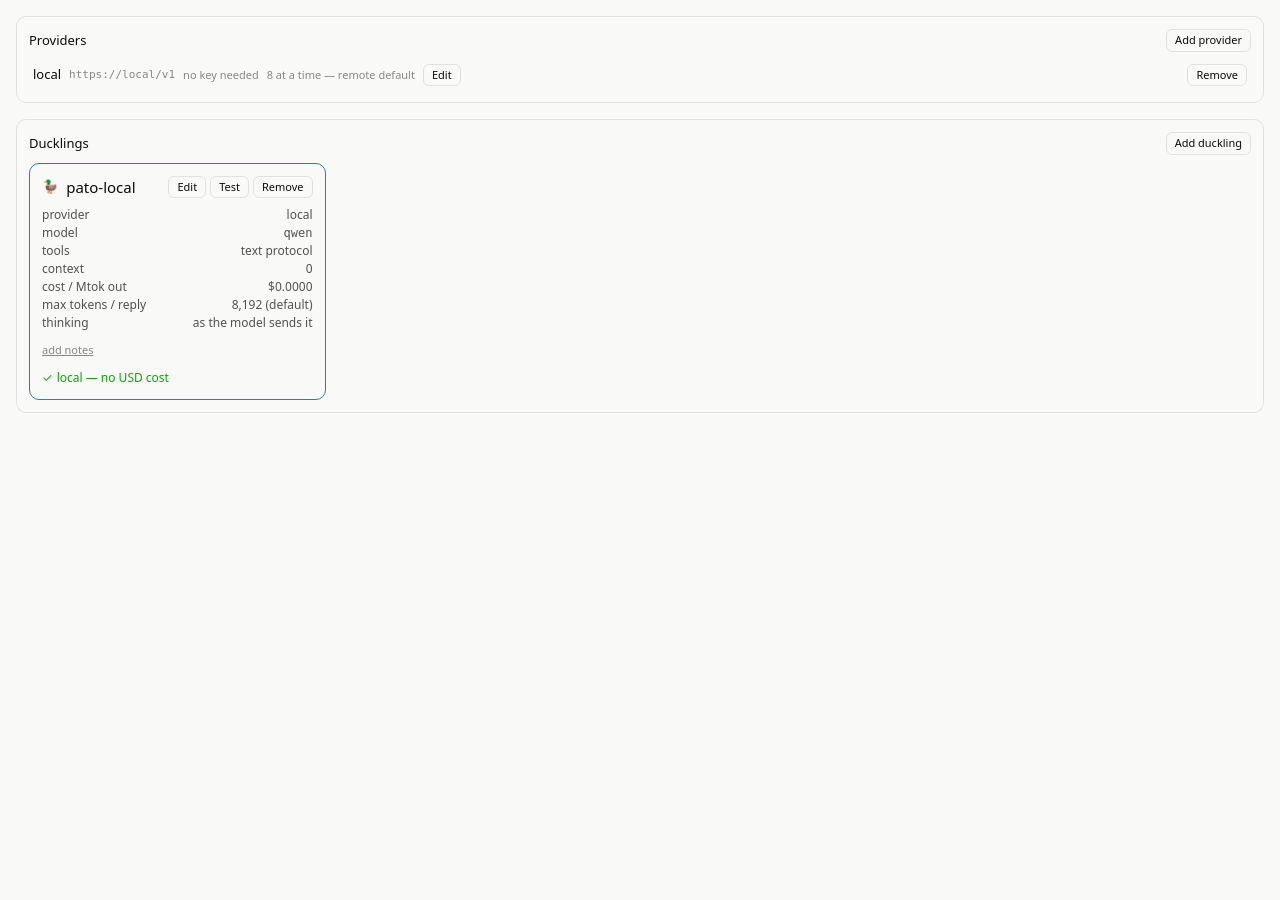
Test case: Ducklings › will not let an existing duckling be renamed
Click the button with test id "duckling-edit-pato-local".
click(187, 187)  # box 168,176 -> 206,198
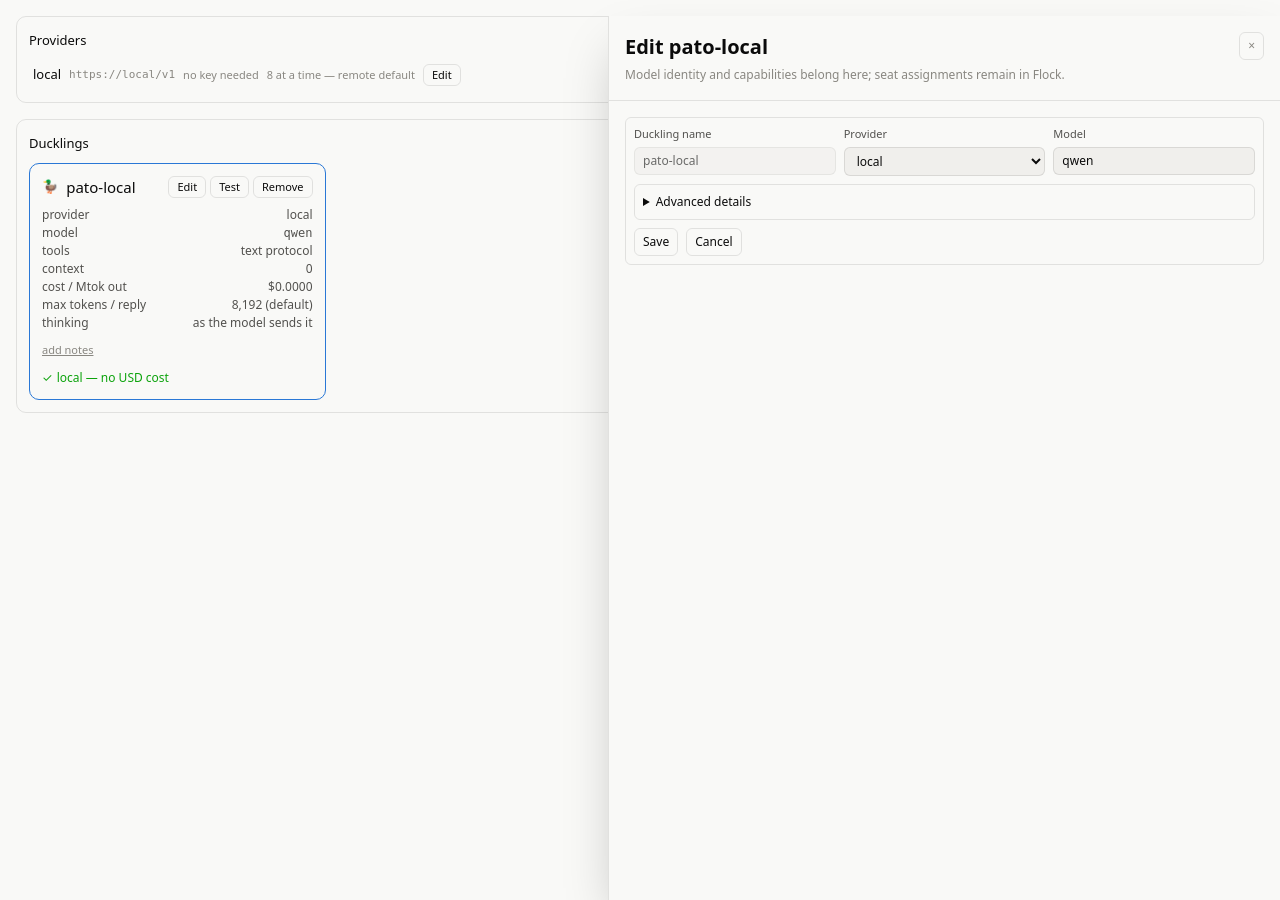
expect the field with test id "duckling-id" is disabled: met, box 634,146 -> 836,174
